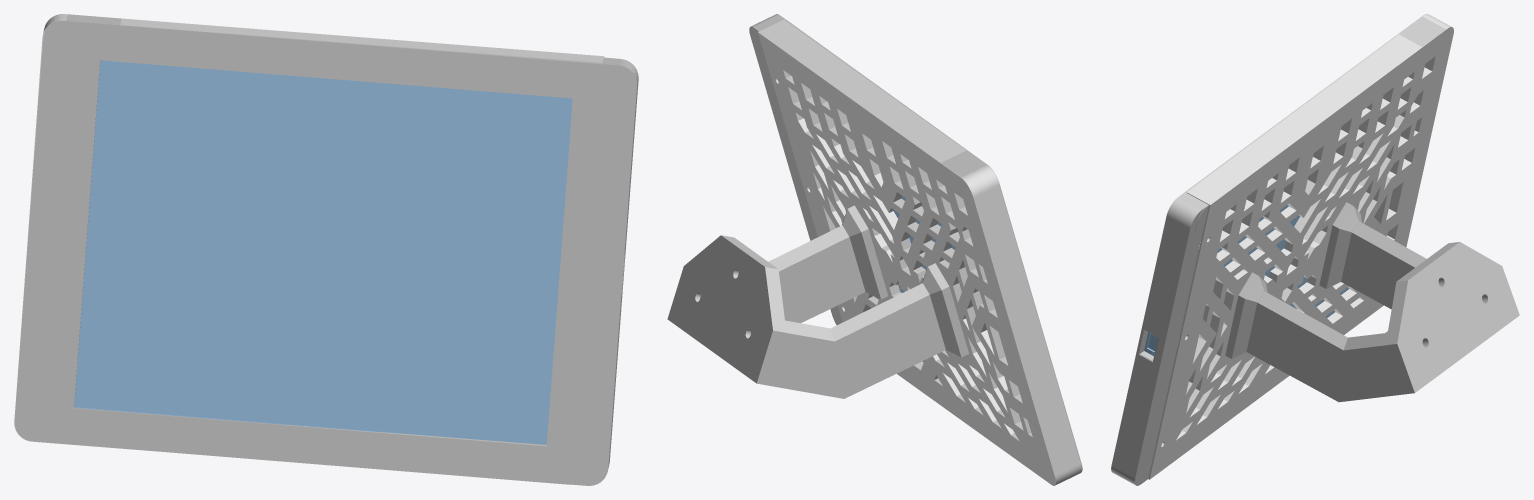
The model's file is ipad.glb.
The picture shows the model from 3 angles, left to right: view 1: azimuth 30°, elevation 25°; view 2: azimuth 150°, elevation 25°; view 3: azimuth 270°, elevation 25°; orthographic projection. The views are drawn at different scales.
Parts seen in each view (by area): view 1: Uchwyt na ipad v35, Uchwyt na ipad v29; view 2: Uchwyt na ipad v29, Uchwyt na ipad v35; view 3: Uchwyt na ipad v29, Uchwyt na ipad v35.
Boxes of the visible parts, x1=… form: Uchwyt na ipad v35: x1=14, y1=14, x2=638, y2=485; Uchwyt na ipad v29: x1=14, y1=14, x2=604, y2=450; Uchwyt na ipad v29: x1=758, y1=19, x2=1081, y2=485; Uchwyt na ipad v35: x1=667, y1=14, x2=1082, y2=470; Uchwyt na ipad v29: x1=1148, y1=14, x2=1453, y2=479; Uchwyt na ipad v35: x1=1111, y1=14, x2=1519, y2=485.
Bounding box in the file's own units: 134 × 104 × 116.
